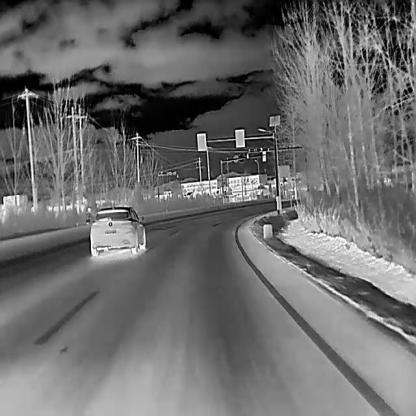car: (89, 205, 146, 256)
